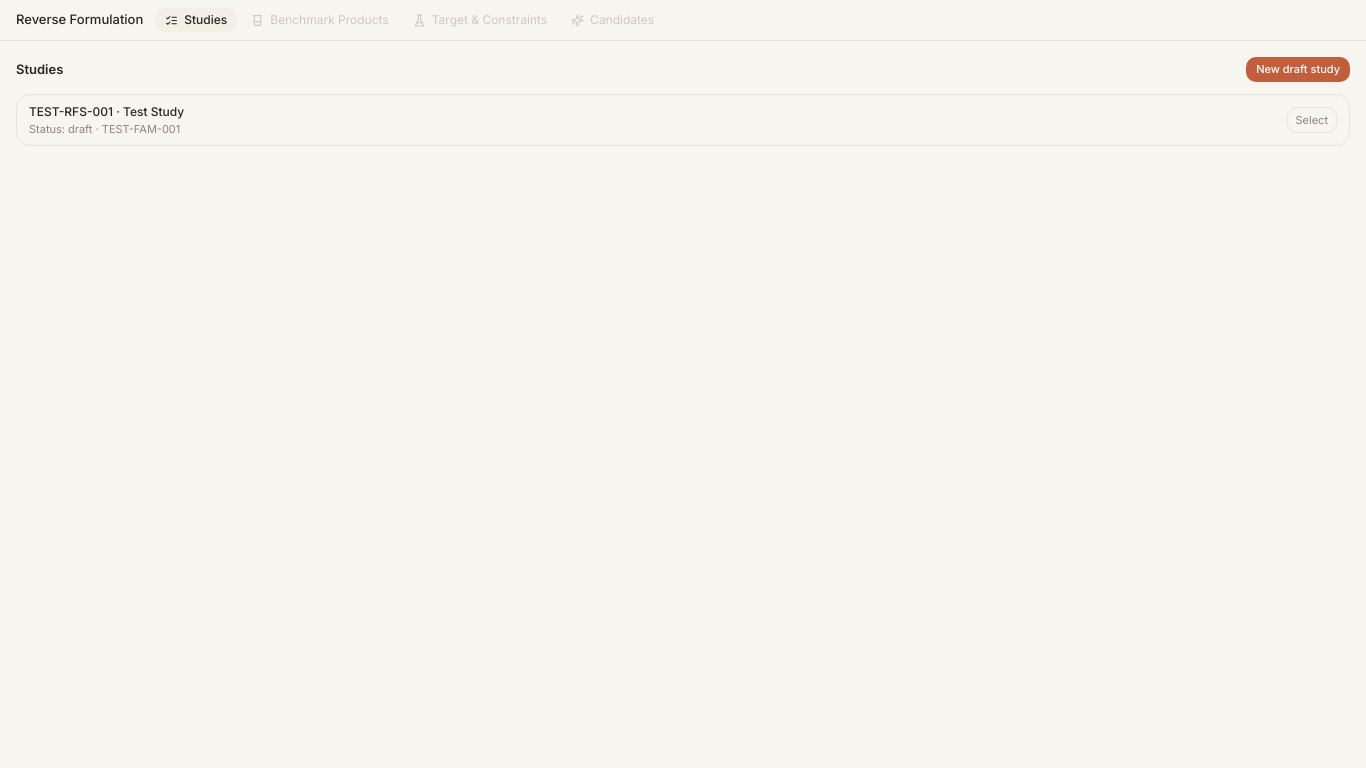
it: ReverseFormulationPage — studies › lists an existing study and selects it, unlocking the other sections
Expected: the text "TEST-RFS-001 · Test Study" is shown, left=29, top=104, right=184, bottom=118
Click the button "Select": (1312, 120) left=1287, top=106, right=1337, bottom=133
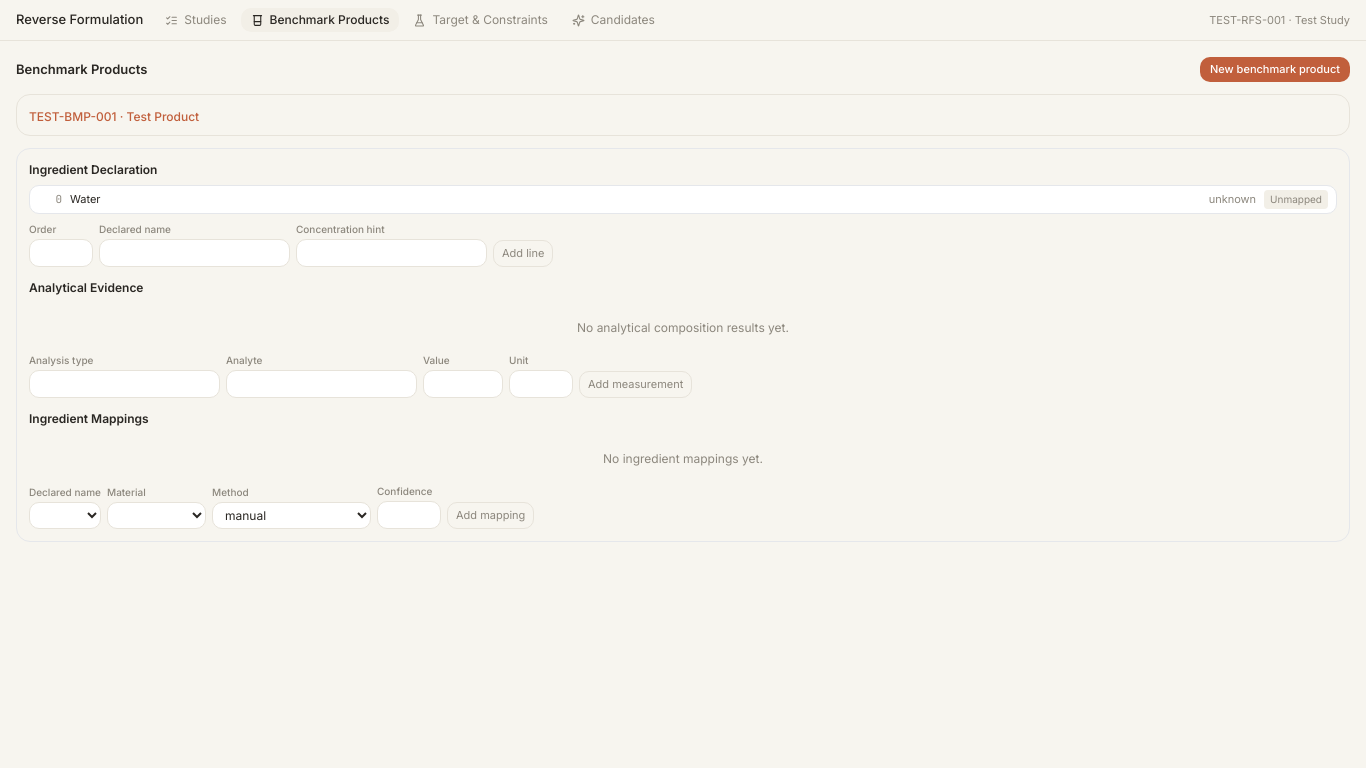
Expected: the text "TEST-RFS-001 · Test Study" is shown, left=1209, top=12, right=1350, bottom=28
Now the button "Benchmark Products" is enabled, box left=241, top=8, right=400, bottom=32
